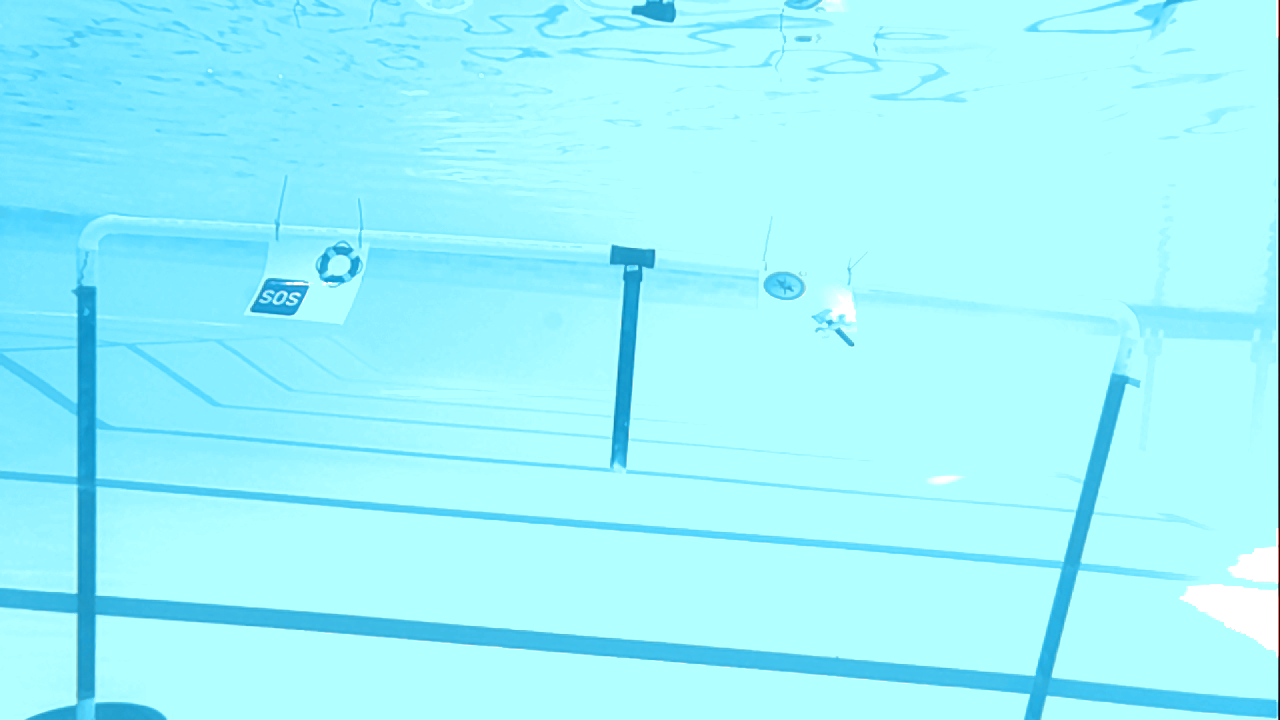compass_hammer: (757, 269, 867, 350)
gate_leg_center: (609, 243, 657, 469)
gate_leg_l: (67, 282, 105, 702)
gate_leg_r: (1022, 368, 1130, 713)
sos_safety: (242, 238, 368, 323)
